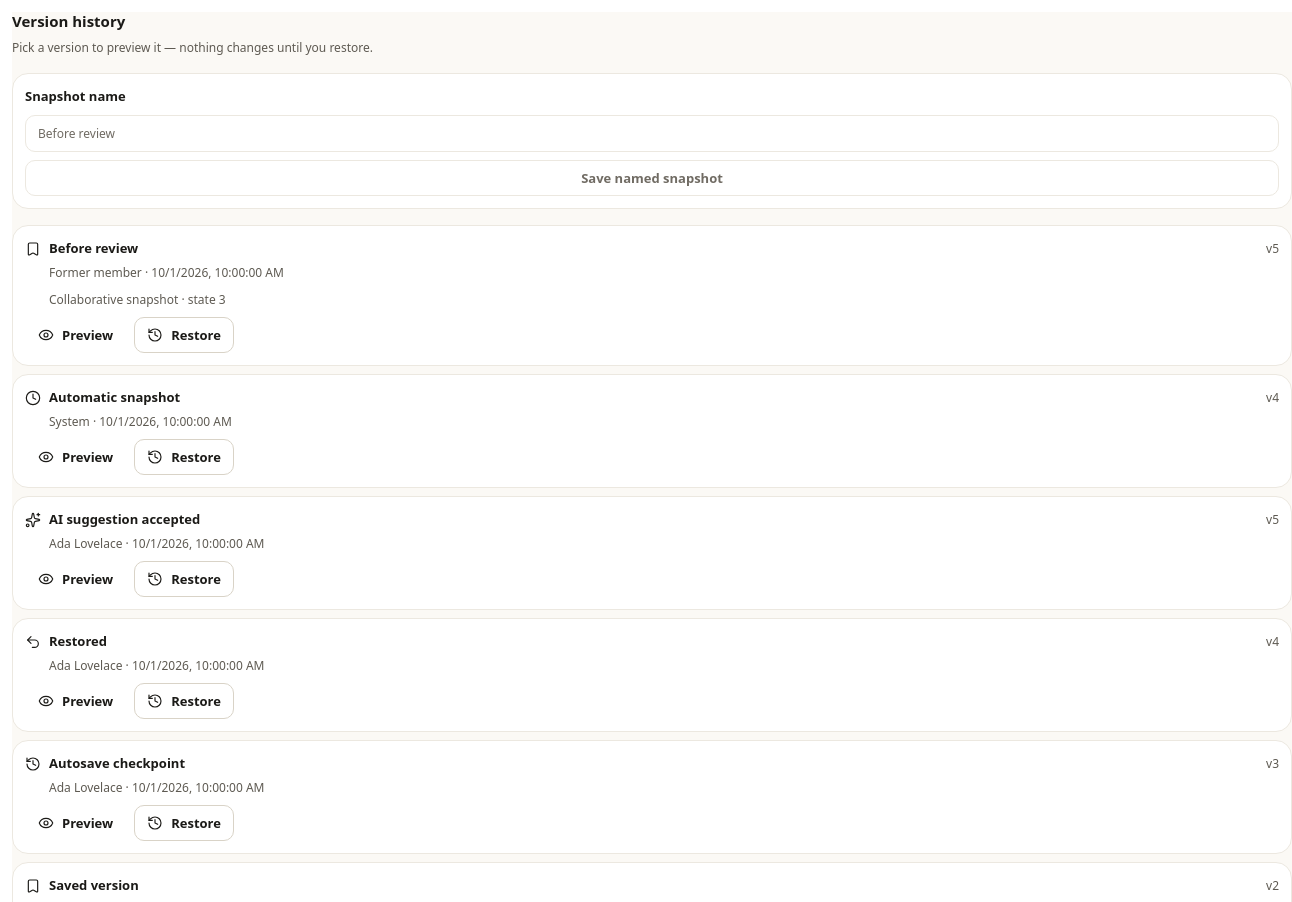
Test case: creates a named snapshot of the acknowledged state, refreshes history and preserves names and system actors
Expected: the text "Before review" is shown, [49,239,138,257]
Expected: the text "Former member" is shown, [49,264,142,281]
Type "  Before review  " into the field labelled "Snapshot name" at (652, 134), box [25,115,1279,152]
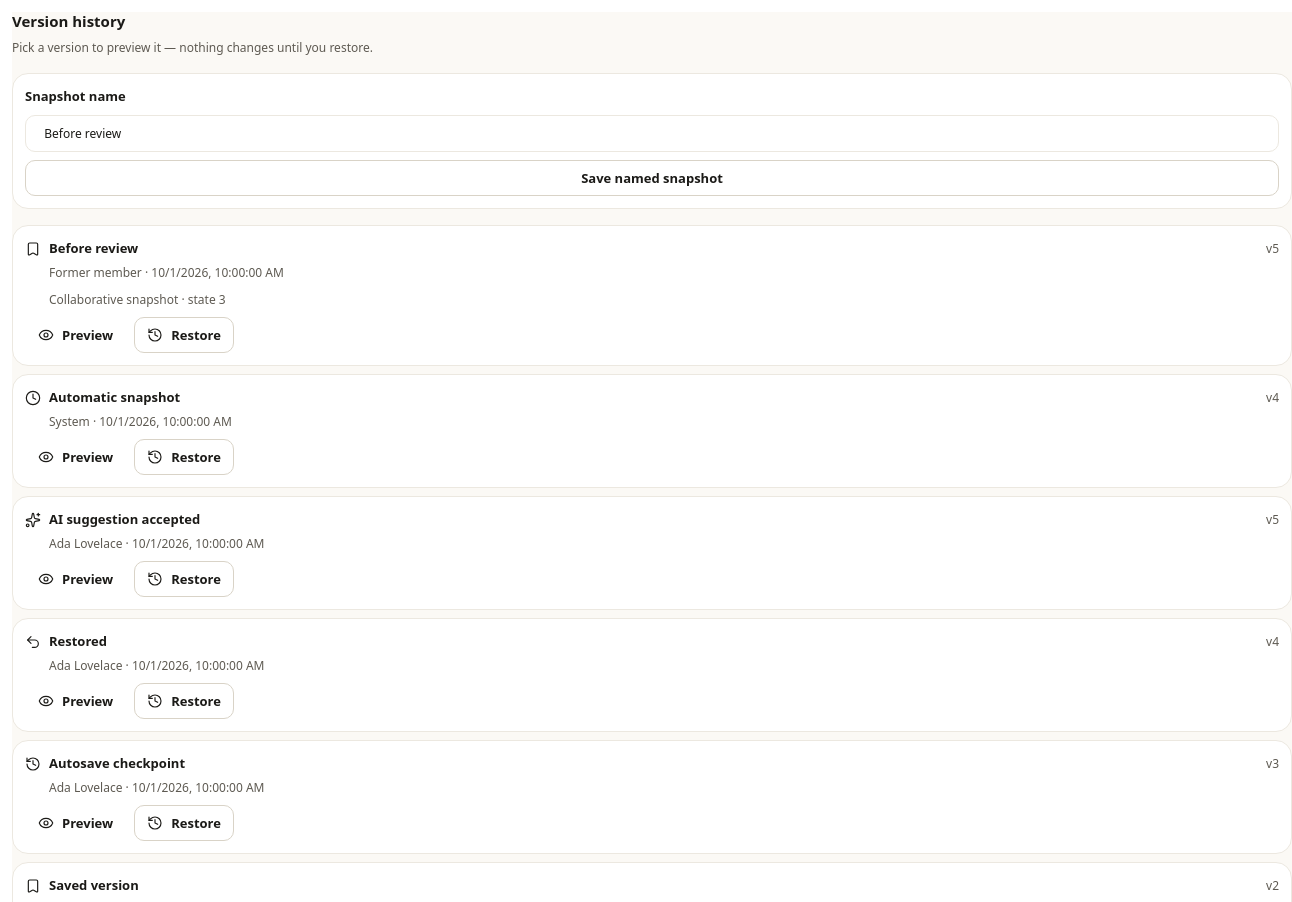
Click the button "Save named snapshot" at (652, 178), box [25,160,1279,196]
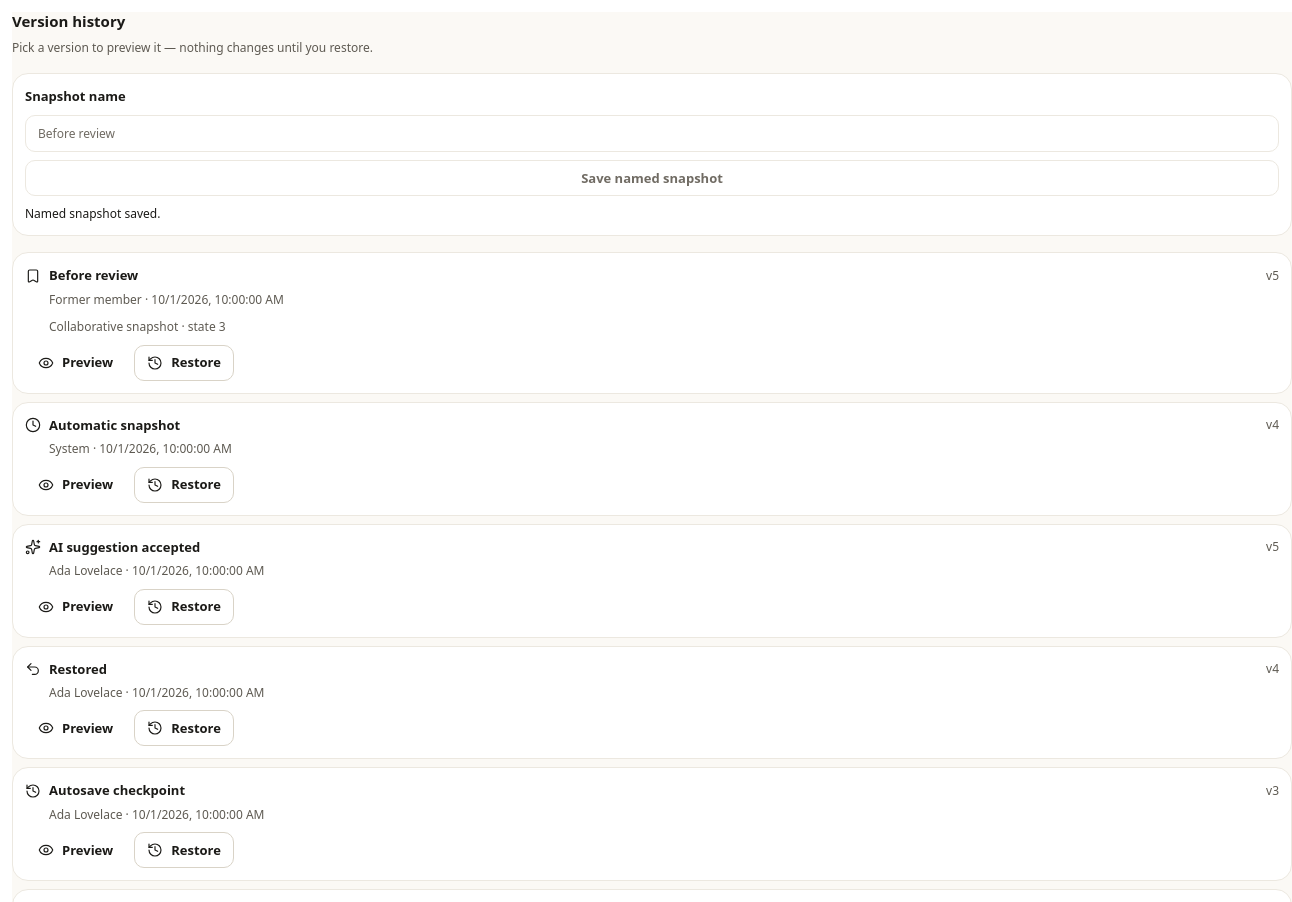
Now the text "Named snapshot saved." is shown, box [25,205,160,222]
Now the field labelled "Snapshot name" is empty, box [25,115,1279,152]
